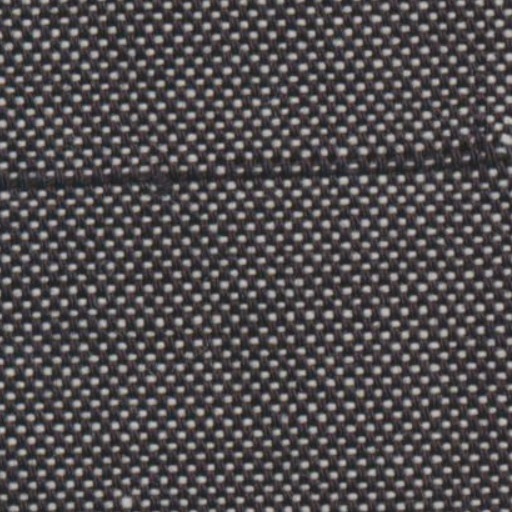DaiSha: (12, 147, 504, 194)
